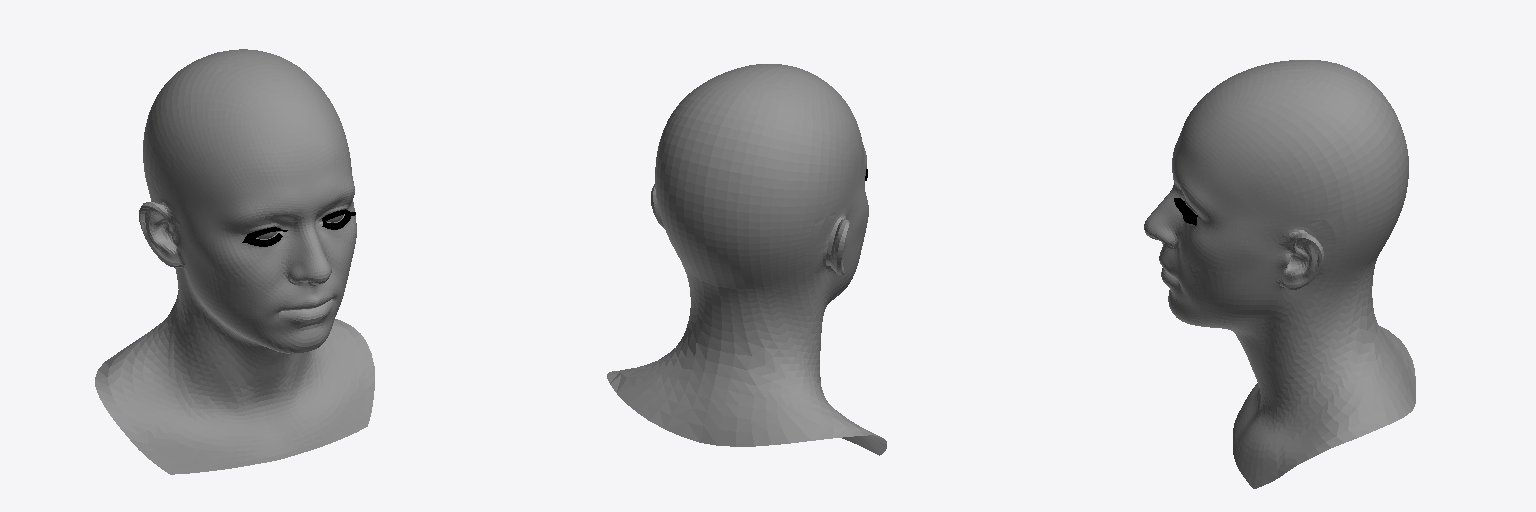
Rendered from identity056.obj.
3 renders of one model, left to right at view 1: azimuth 30°, elevation 25°; view 2: azimuth 150°, elevation 25°; view 3: azimuth 270°, elevation 25°, orthographic.
Bounding box in the file's own units: 24.85 × 33.79 × 22.3.